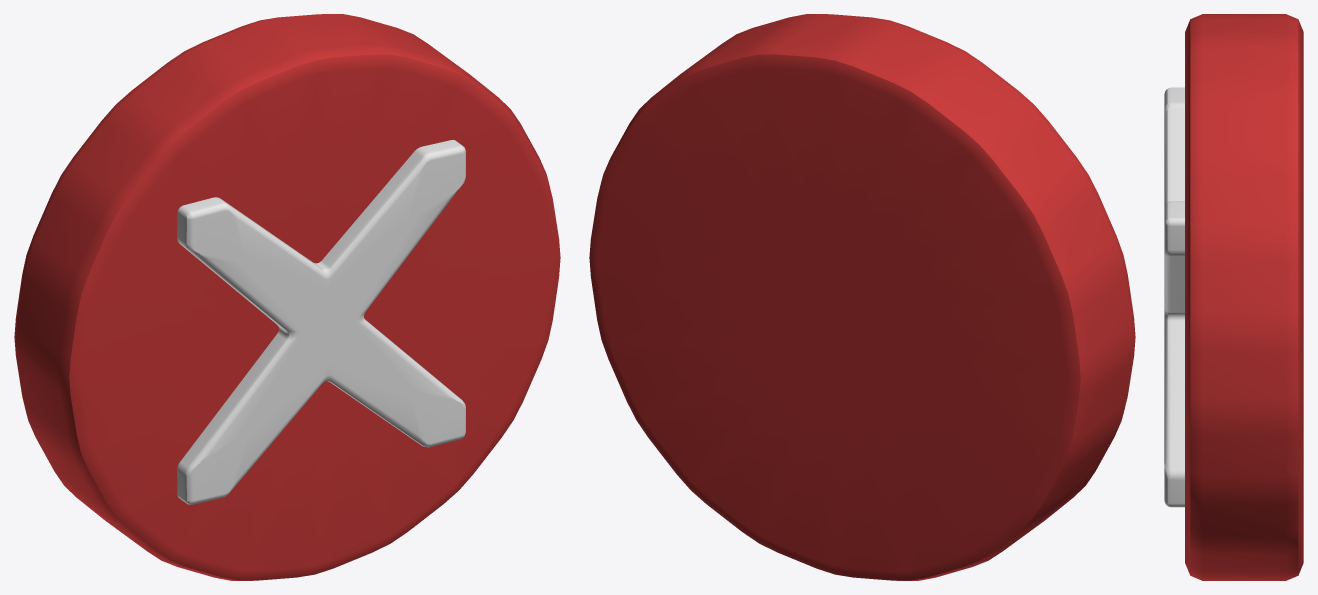
The model's file is XMark.fbx.
The picture shows the model from 3 angles, left to right: view 1: azimuth 30°, elevation 25°; view 2: azimuth 150°, elevation 25°; view 3: azimuth 270°, elevation 25°; orthographic projection.
Parts seen in each view (by area): view 1: pCylinder1, pCube3; view 2: pCylinder1; view 3: pCylinder1, pCube3.
Part boxes in pixels (<box>): pCylinder1: <box>14,14,560,580</box>; pCube3: <box>177,140,465,504</box>; pCylinder1: <box>589,14,1135,580</box>; pCylinder1: <box>1185,14,1303,580</box>; pCube3: <box>1164,87,1184,507</box>.
Bounding box in the file's own units: 0.6492 × 0.6492 × 0.1588.
